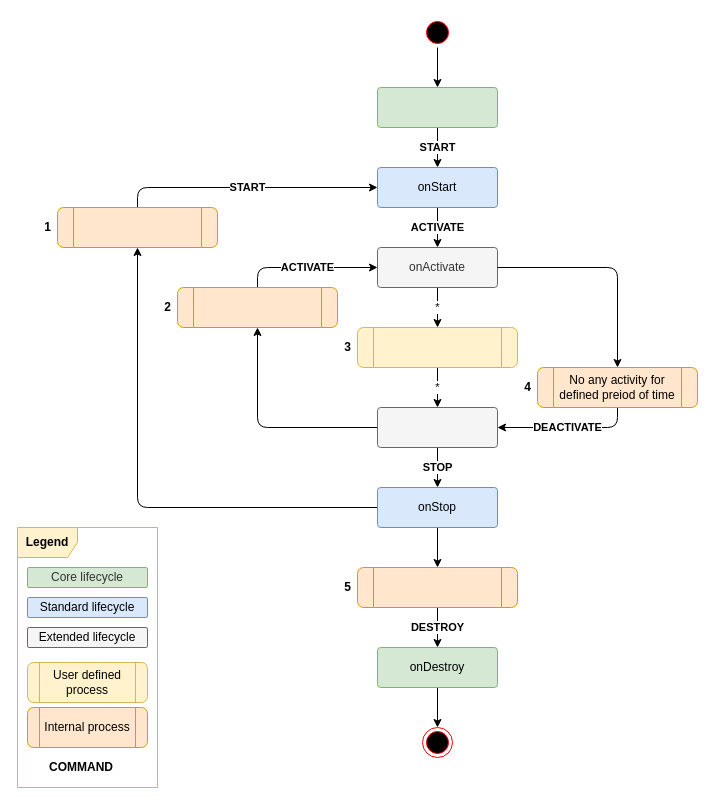
Image size: 715x805. Some labels were removed from this diagram. The shapes that lost their labels are listed below. From the top down, each one's centre as x and y in pixels, then its label:
At (x=437, y=107): "onCreate".
At (x=137, y=227): "Manual Full restart".
At (x=257, y=307): "Automatic Fast restart".
At (x=437, y=347): "Messages handling".
At (x=437, y=427): "onDeactivate".
At (x=437, y=587): "Remove object from registry".
